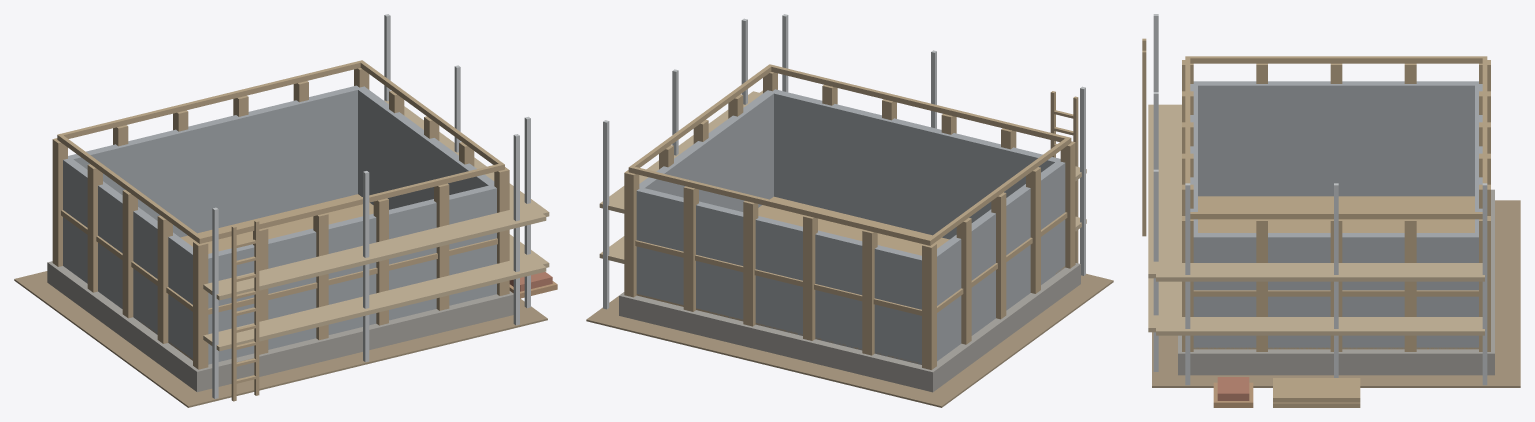
The model's file is garage_site_7.glb.
3 views of the same model, side by side, from view 1: azimuth 30°, elevation 25°; view 2: azimuth 150°, elevation 25°; view 3: azimuth 270°, elevation 25° (orthographic). The views are drawn at different scales.
Parts seen in each view (by area): view 1: body; view 2: body; view 3: body.
Part boxes in pixels (box(x1,y1,x2,y2)): body: box(14, 14, 557, 407); body: box(586, 14, 1113, 407); body: box(1142, 14, 1520, 407).
Size of the model in its own units: 2.46 by 1.12 by 1.91.
